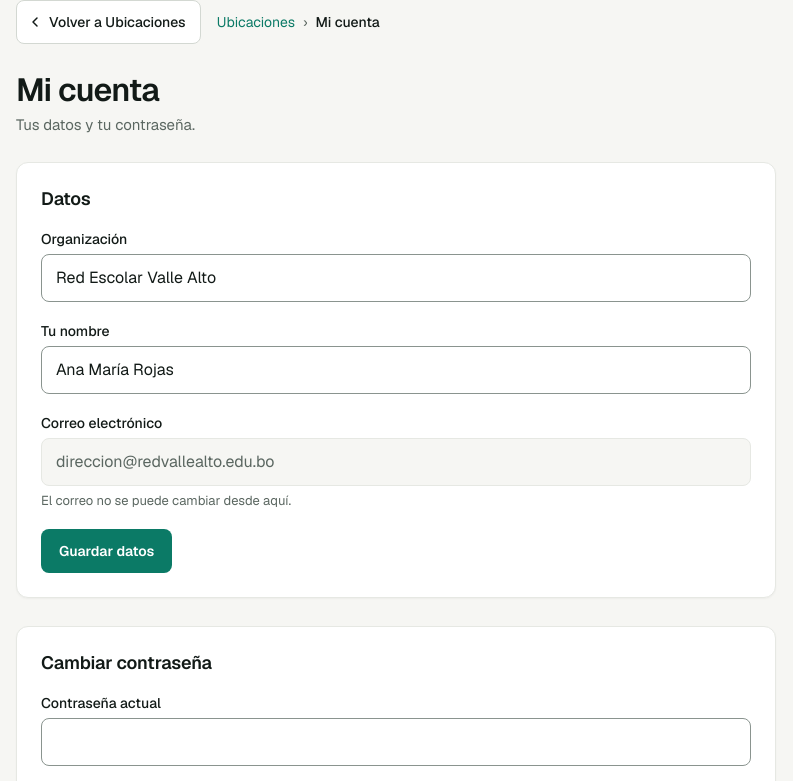
it: MiCuenta › no guarda datos vacíos
Clear the field labelled "Organización" at (396, 278), box [41,254,751,302]
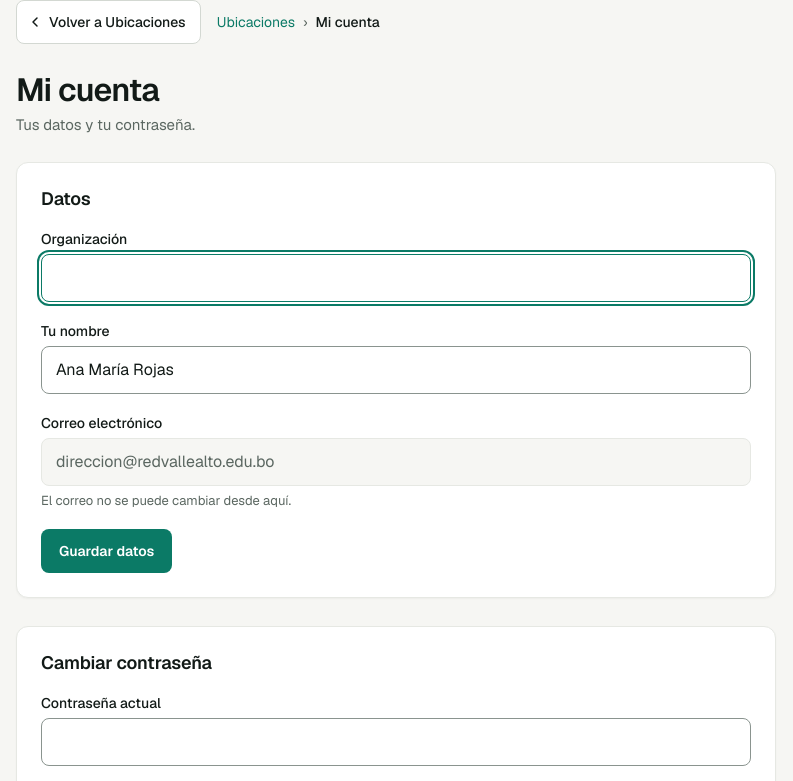
Click the button "Guardar datos" at (107, 551), box [41,529,172,573]
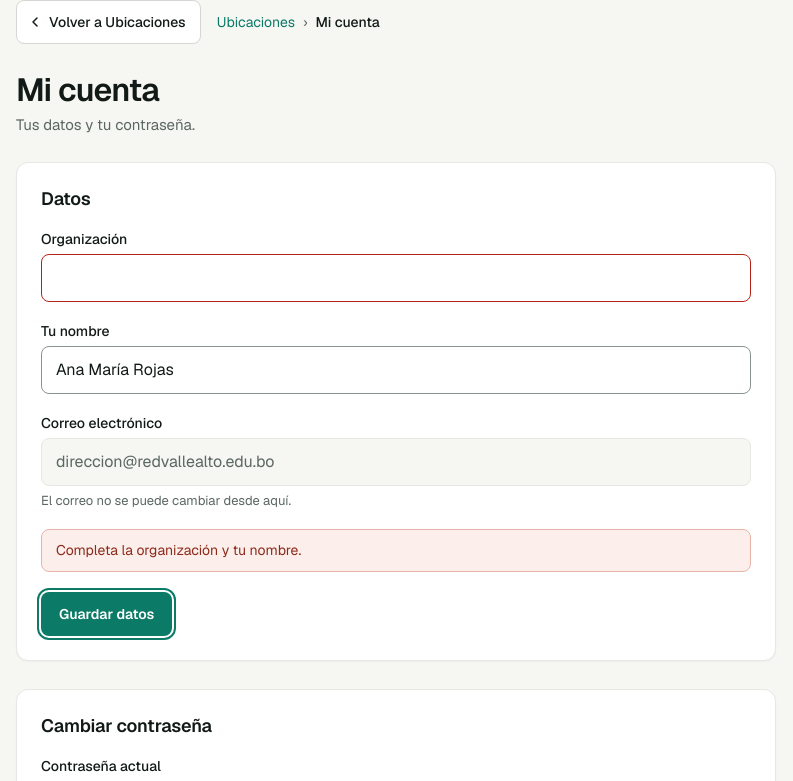
Now the message reads "Completa la organización y tu nombre.", box [56,541,301,559]
